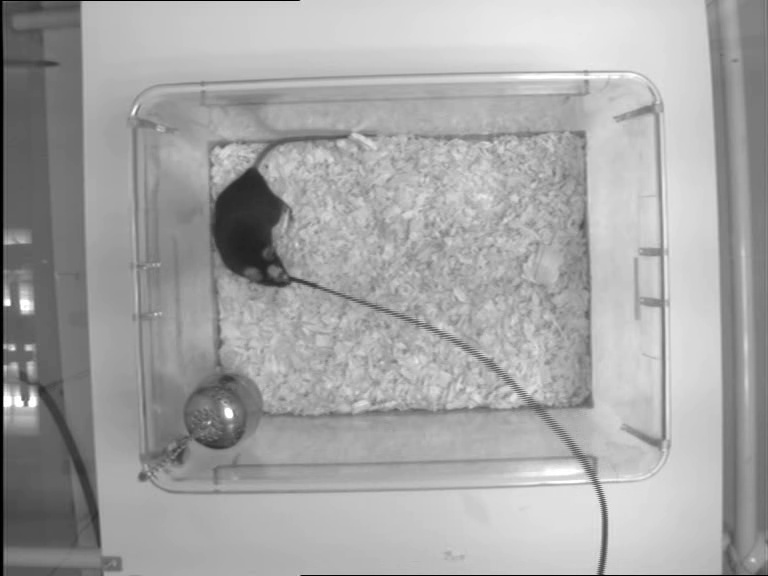mice: (209, 134, 356, 287)
